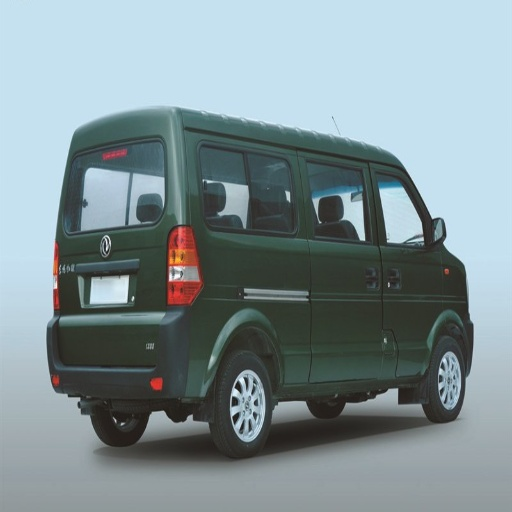back_bumper: (47, 305, 218, 397)
back_right_door: (223, 152, 379, 284)
tailgate: (61, 225, 138, 314)
trunk: (214, 290, 375, 385), (63, 213, 172, 336)
